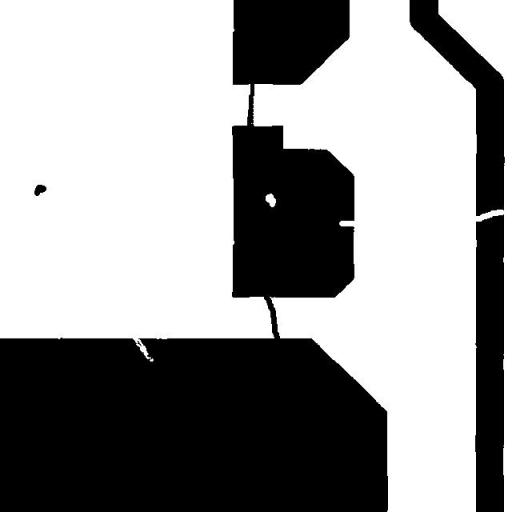copper: (26, 177, 54, 203)
mousebite: (125, 330, 161, 368), (331, 212, 364, 234)
open: (466, 202, 512, 228)
pin-hole: (258, 186, 283, 214)
short: (255, 284, 287, 353), (239, 70, 262, 134)
